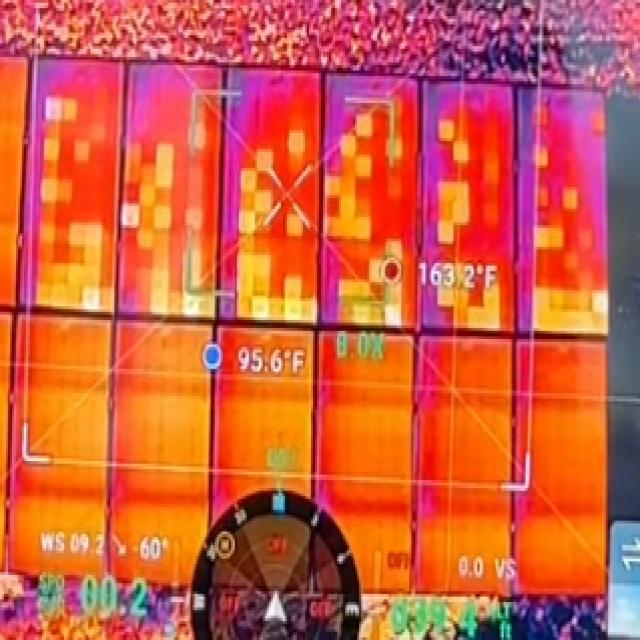hotspot group: (30, 89, 110, 307), (127, 119, 207, 311), (229, 135, 312, 319), (324, 109, 411, 255), (324, 223, 411, 333), (527, 130, 589, 256), (430, 111, 477, 246), (432, 254, 503, 332), (528, 280, 617, 335)
panel with hotspots: (14, 48, 129, 313), (115, 60, 226, 322), (214, 67, 324, 327), (320, 69, 421, 331), (516, 74, 614, 342), (421, 76, 519, 339)
